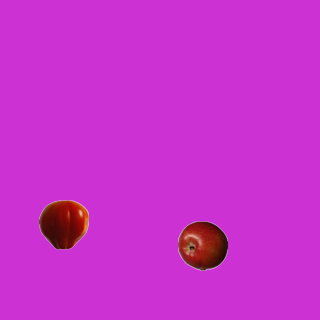Apple Braeburn: (177, 220, 227, 270)
Tomato 1: (38, 199, 88, 249)
